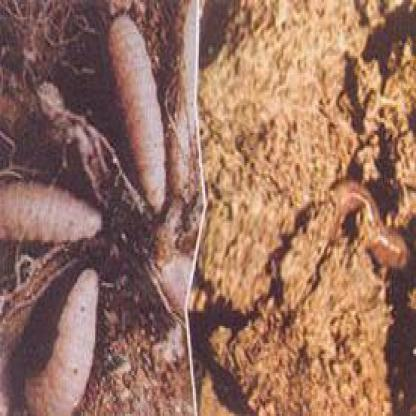whorl-maggot: (107, 12, 173, 218), (26, 263, 102, 410), (1, 174, 108, 244)
